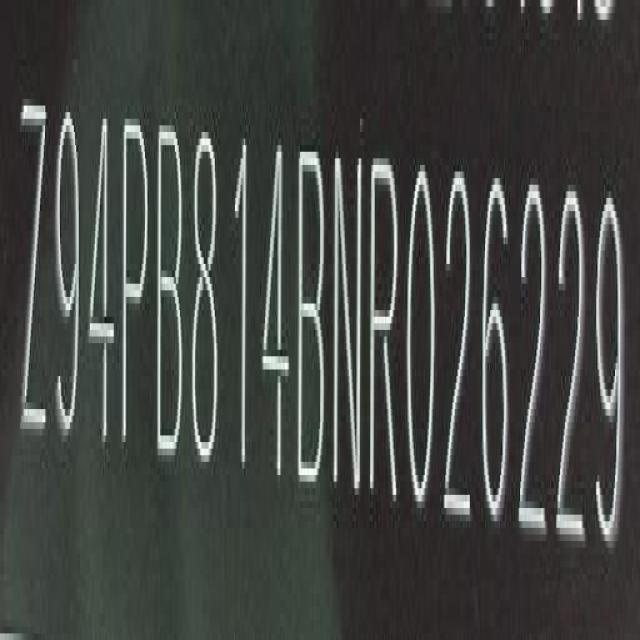0: (407, 161, 439, 516)
1: (232, 125, 252, 483)
2: (552, 184, 588, 546), (445, 161, 478, 529), (518, 179, 549, 542)
4: (260, 134, 293, 492), (88, 107, 118, 459)
6: (481, 172, 514, 534)
8: (192, 127, 225, 479)
9: (594, 192, 628, 554), (50, 102, 81, 457)
B: (298, 138, 330, 493), (156, 117, 188, 471)
N: (333, 147, 367, 504)
P: (120, 114, 156, 467)
R: (369, 150, 402, 508)
Z: (18, 92, 49, 451)
